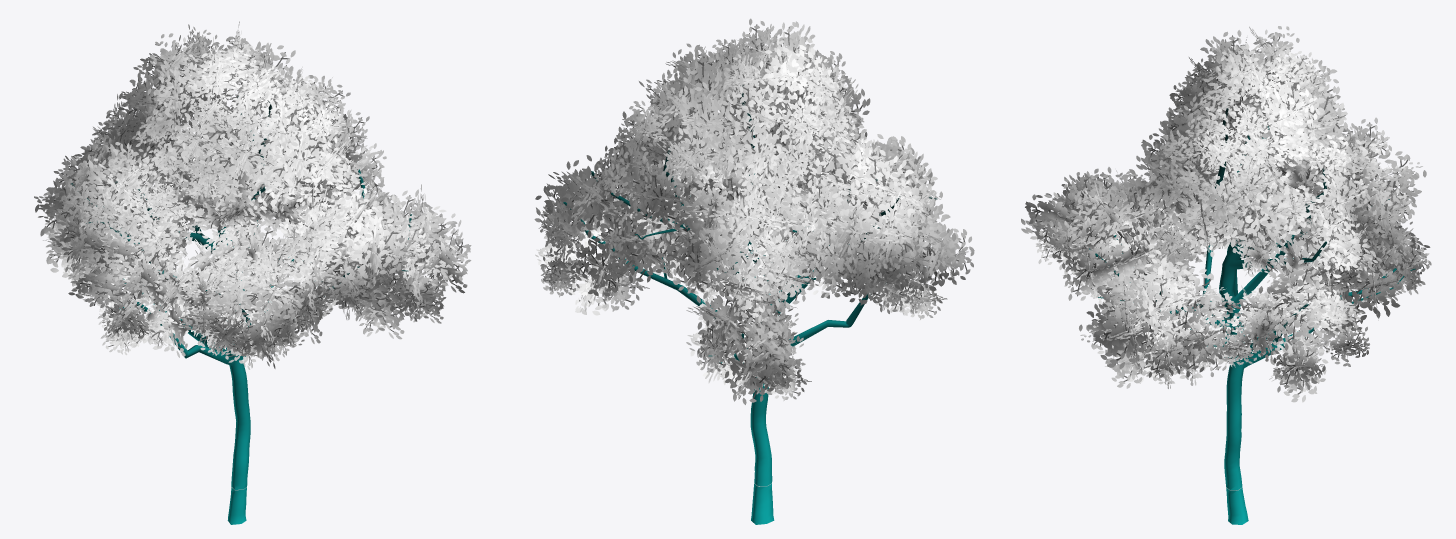
Rendered from HuralyaBirch1Separated.fbx.
3 views of the same model, side by side, from view 1: azimuth 30°, elevation 25°; view 2: azimuth 150°, elevation 25°; view 3: azimuth 270°, elevation 25° (orthographic). The views are drawn at different scales.
Visible parts, largest first — view 1: BarkAndLeaves, Stump; view 2: BarkAndLeaves, Stump; view 3: BarkAndLeaves, Stump.
Part boxes in pixels (box(x1,y1,x2,y2)): BarkAndLeaves: box(34, 21, 471, 489); Stump: box(227, 487, 246, 524); BarkAndLeaves: box(534, 18, 974, 486); Stump: box(751, 483, 774, 524); BarkAndLeaves: box(1021, 26, 1431, 490); Stump: box(1226, 487, 1248, 524).
Bounding box in the file's own units: 626 × 758 × 608.
